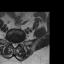CCS_normal: (14, 40, 15, 49)
LFS_stenosis: (18, 39, 20, 45)
LLS_normal: (16, 40, 18, 47)
RFS_stenosis: (10, 39, 12, 45)
RLS_normal: (12, 40, 14, 48)
